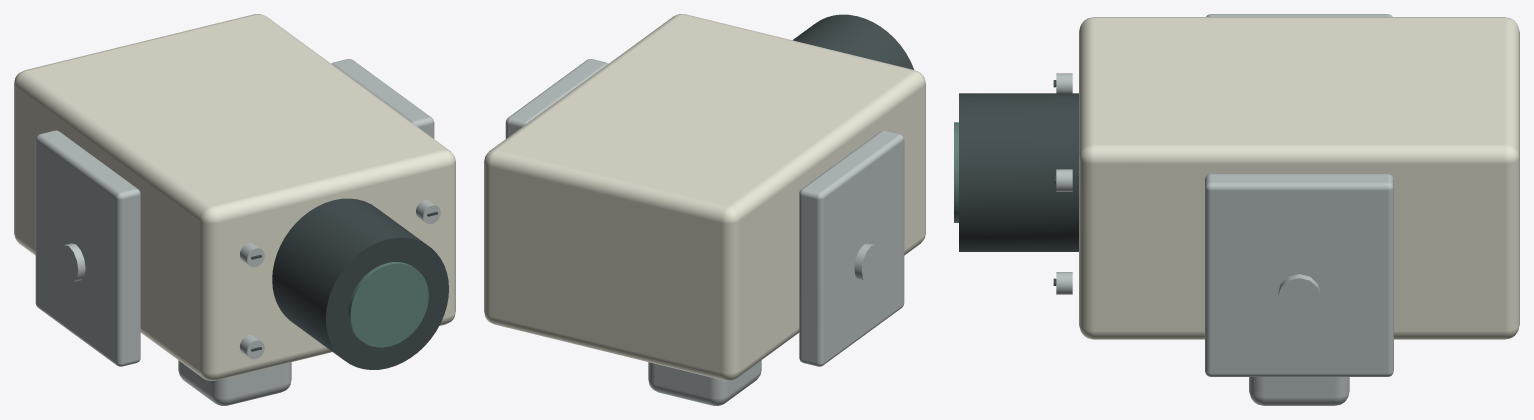
File: abandoned-tidal-model-testing-hall-optical-tracking-ca-5a93f82e.glb
The picture shows the model from 3 angles, left to right: view 1: azimuth 30°, elevation 25°; view 2: azimuth 150°, elevation 25°; view 3: azimuth 270°, elevation 25°; orthographic projection. The views are drawn at different scales.
Parts seen in each view (by area): view 1: optical-tracking-camera; view 2: optical-tracking-camera; view 3: optical-tracking-camera.
Boxes of the visible parts, x1=… form: optical-tracking-camera: x1=14, y1=14, x2=455, y2=405; optical-tracking-camera: x1=484, y1=14, x2=925, y2=405; optical-tracking-camera: x1=954, y1=14, x2=1519, y2=405.
Bounding box in the file's own units: 0.34 × 0.27 × 0.449.
